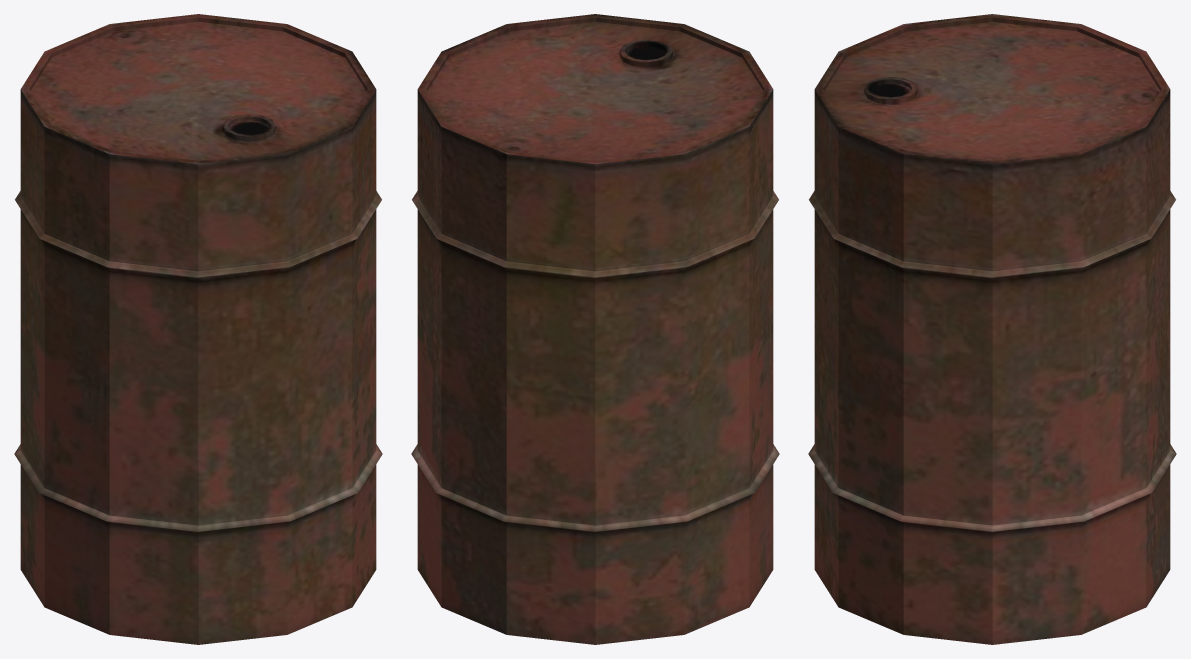
The model's file is barrel_pack_05.glb.
3 renders of one model, left to right at view 1: azimuth 30°, elevation 25°; view 2: azimuth 150°, elevation 25°; view 3: azimuth 270°, elevation 25°, orthographic.
Parts seen in each view (by area): view 1: Cylinder_Material.010_0; view 2: Cylinder_Material.010_0; view 3: Cylinder_Material.010_0.
Part boxes in pixels (left/top/right/bottom): Cylinder_Material.010_0: left=14, top=14, right=382, bottom=644; Cylinder_Material.010_0: left=411, top=14, right=779, bottom=644; Cylinder_Material.010_0: left=808, top=14, right=1176, bottom=644.
Bounding box in the file's own units: 0.6936 × 1 × 0.6936.
Materials: 1 (1 with a texture image).
